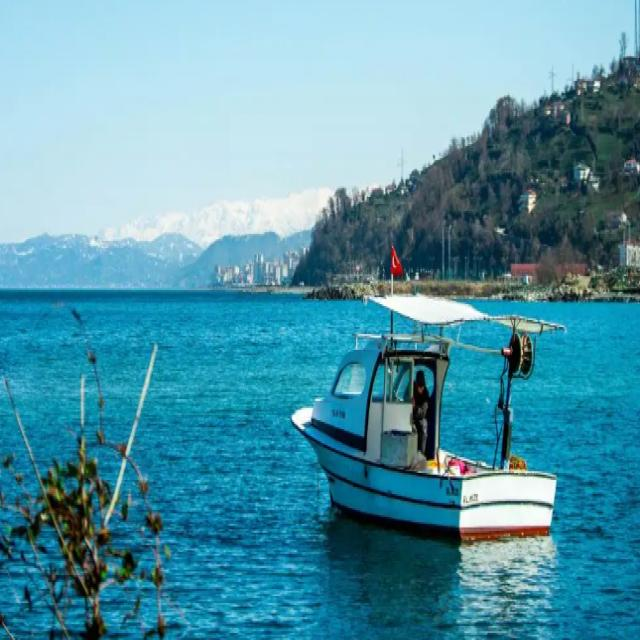fishing boat: (287, 244, 555, 552)
